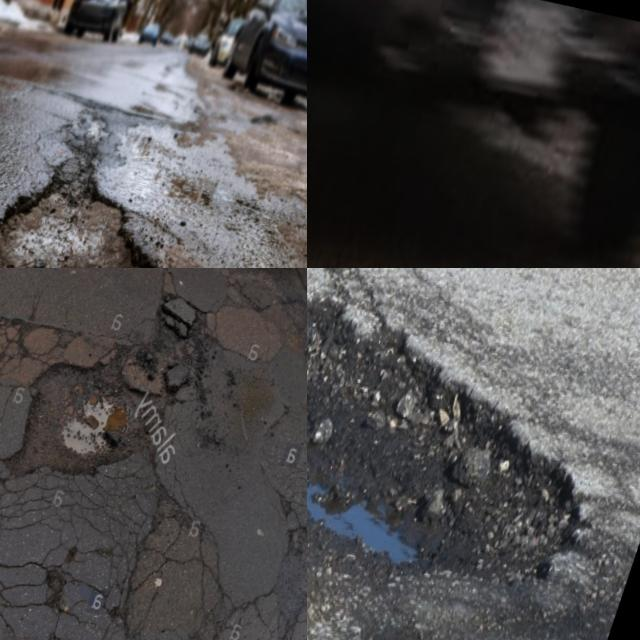Potholes: (307, 299, 626, 640), (0, 269, 234, 525), (0, 107, 269, 268), (78, 485, 269, 640), (159, 268, 307, 396), (192, 492, 307, 640), (14, 532, 107, 636), (219, 353, 307, 452)
